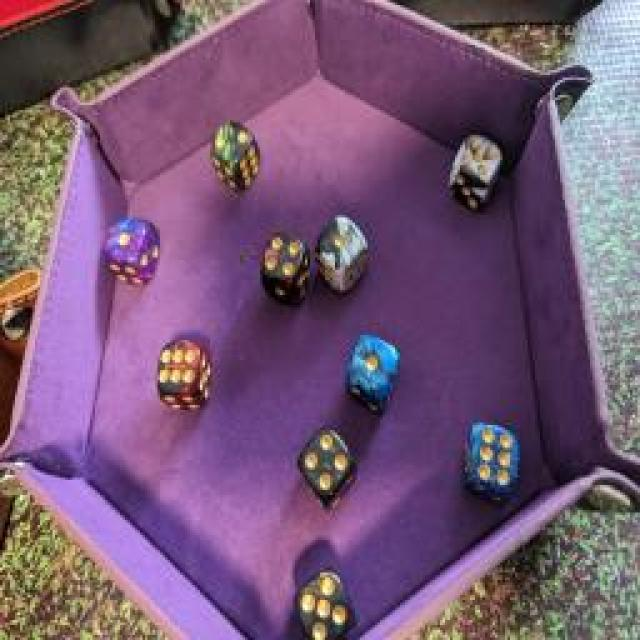dice_1: (341, 325, 404, 415), (312, 208, 372, 292), (105, 214, 163, 288)
dice_2: (206, 111, 262, 191)
dice_4: (292, 421, 360, 511), (259, 230, 311, 312)
dice_5: (292, 550, 358, 640), (446, 135, 506, 207)
dice_6: (460, 416, 522, 504), (153, 338, 215, 414)
